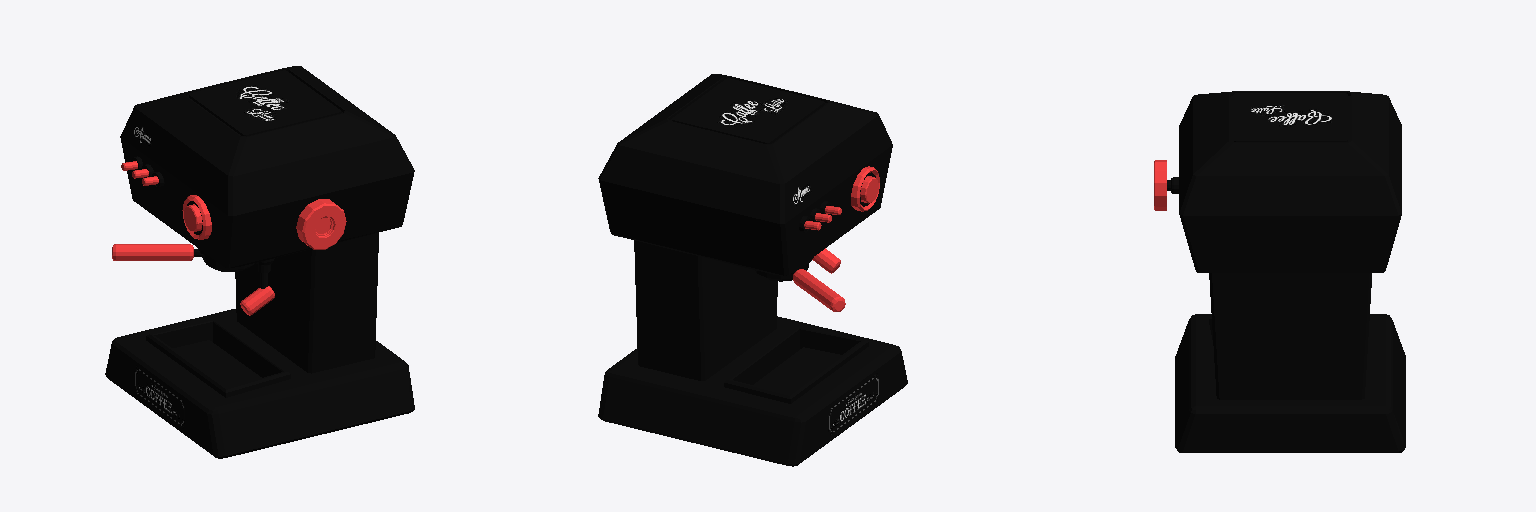
The picture shows the model from 3 angles: view 1: azimuth 30°, elevation 25°; view 2: azimuth 150°, elevation 25°; view 3: azimuth 270°, elevation 25°; orthographic projection.
Visible parts, largest first — view 1: Coffee; view 2: Coffee; view 3: Coffee.
Boxes of the visible parts, box(x1,y1,x2,y2) form: Coffee: box(105, 66, 414, 458); Coffee: box(598, 74, 907, 466); Coffee: box(1154, 91, 1405, 452).
Size of the model in its own units: 113 by 143 by 112.
1 materials, 1 textured.